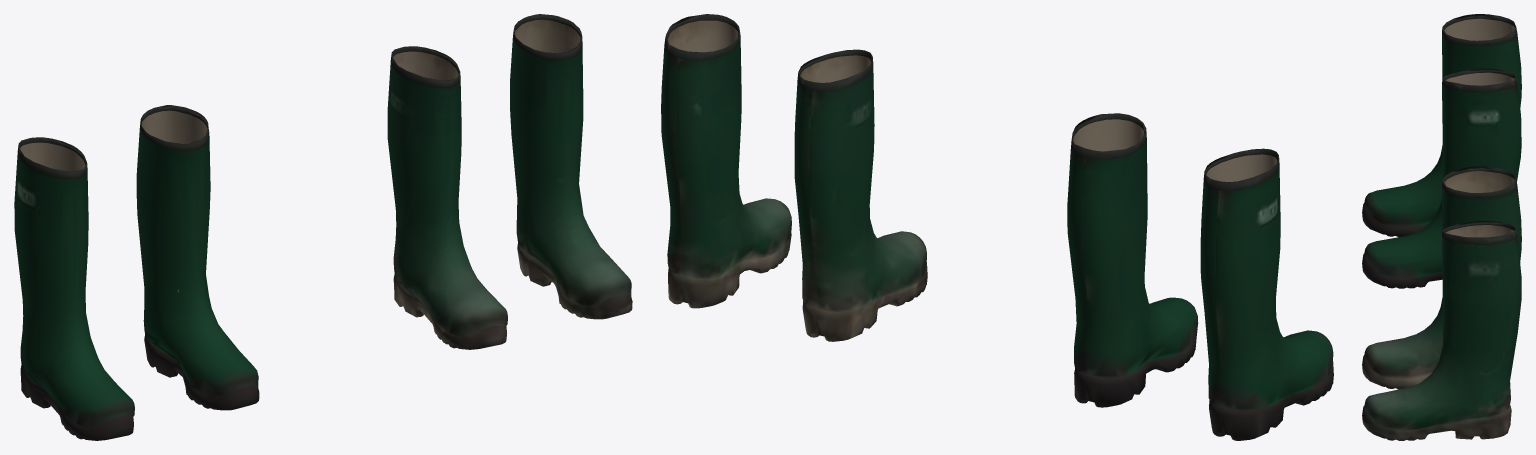
File: rubber_boots.glb
3 views of the same model, side by side, from view 1: azimuth 30°, elevation 25°; view 2: azimuth 150°, elevation 25°; view 3: azimuth 270°, elevation 25° (orthographic). The views are drawn at different scales.
Visible parts, largest first — view 1: rubber_boots_l, rubber_boots_dirty_l; view 2: rubber_boots_dirty_l, rubber_boots_l; view 3: rubber_boots_dirty_l, rubber_boots_l.
Part boxes in pixels (<box>): rubber_boots_l: <box>14,105,259,440</box>; rubber_boots_dirty_l: <box>387,14,632,349</box>; rubber_boots_dirty_l: <box>661,14,927,341</box>; rubber_boots_l: <box>1067,113,1333,440</box>; rubber_boots_dirty_l: <box>1362,166,1521,440</box>; rubber_boots_l: <box>1362,14,1521,288</box>.
Size of the model in its own units: 0.8899 by 0.3726 by 0.2662.
Materials: 2 (2 with a texture image).
